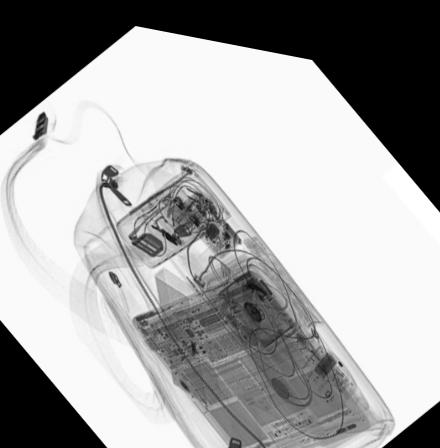Lighter: (221, 286, 250, 307)
